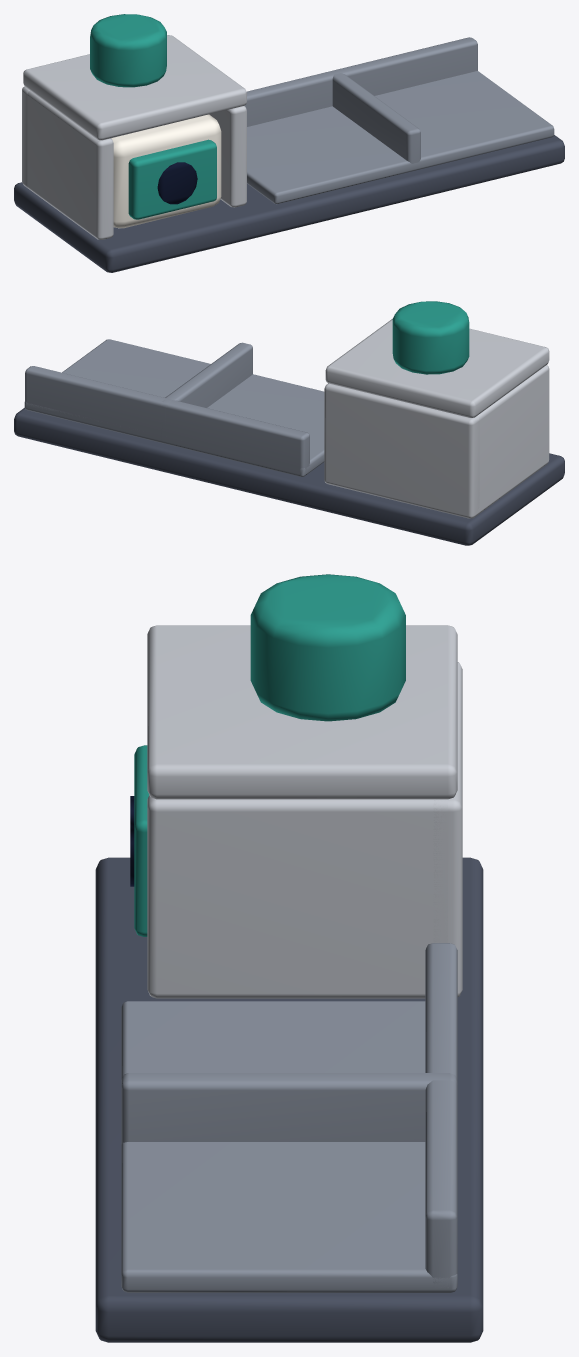
File: Fx_Co2FilterHolder.fbx
3 renders of one model, top to bottom at view 1: azimuth 30°, elevation 25°; view 2: azimuth 150°, elevation 25°; view 3: azimuth 270°, elevation 25°, orthographic. The views are drawn at different scales.
Parts seen in each view (by area): view 1: Fx_Co2FilterHolder.Tray, Fx_Co2FilterHolder.Socket, Fx_Co2FilterHolder.Base, Fx_Co2FilterHolder.Move_Canister, Fx_Co2FilterHolder.Duct; view 2: Fx_Co2FilterHolder.Socket, Fx_Co2FilterHolder.Tray, Fx_Co2FilterHolder.Base, Fx_Co2FilterHolder.Duct; view 3: Fx_Co2FilterHolder.Socket, Fx_Co2FilterHolder.Tray, Fx_Co2FilterHolder.Base, Fx_Co2FilterHolder.Duct, Fx_Co2FilterHolder.Move_Canister.
Boxes of the visible parts, x1,y1,x2,y2 form: Fx_Co2FilterHolder.Tray: (244, 37, 554, 204); Fx_Co2FilterHolder.Socket: (22, 35, 246, 239); Fx_Co2FilterHolder.Base: (14, 135, 564, 272); Fx_Co2FilterHolder.Move_Canister: (111, 114, 221, 228); Fx_Co2FilterHolder.Duct: (90, 14, 166, 87); Fx_Co2FilterHolder.Socket: (324, 319, 549, 518); Fx_Co2FilterHolder.Tray: (24, 339, 324, 476); Fx_Co2FilterHolder.Base: (14, 407, 564, 545); Fx_Co2FilterHolder.Duct: (392, 301, 469, 374); Fx_Co2FilterHolder.Socket: (147, 625, 462, 998); Fx_Co2FilterHolder.Tray: (121, 943, 457, 1292); Fx_Co2FilterHolder.Base: (95, 857, 483, 1342); Fx_Co2FilterHolder.Duct: (250, 574, 405, 721); Fx_Co2FilterHolder.Move_Canister: (130, 745, 149, 936).
Size of the model in its own units: 0.82 by 0.32 by 0.3.
Materials: 1 (1 with a texture image).
